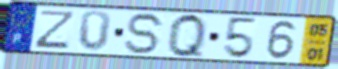0: (77, 10, 113, 53)
5: (220, 17, 260, 60)
6: (266, 19, 298, 61)
Q: (167, 12, 207, 61)
S: (123, 11, 168, 56)
Z: (32, 9, 78, 50)
